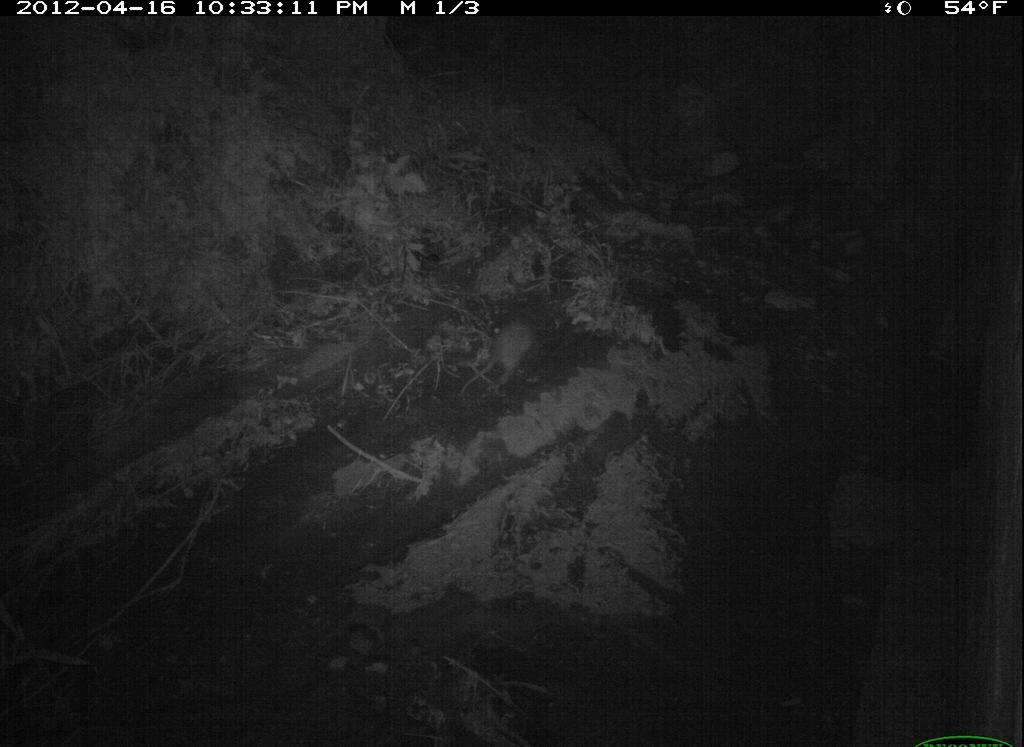opossum: (451, 308, 565, 406)
